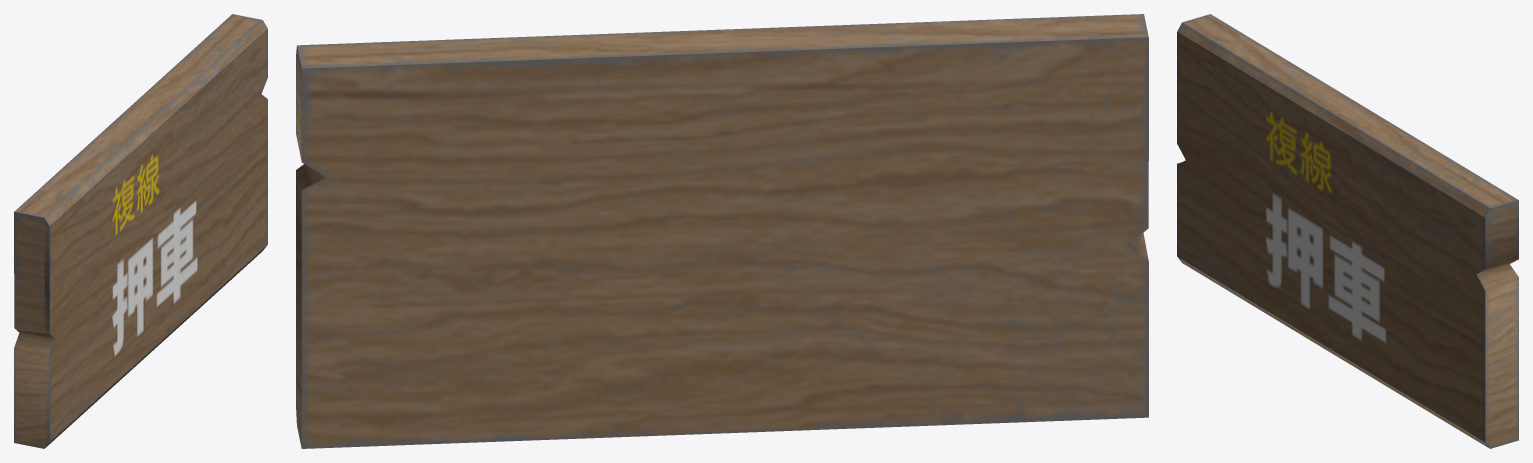
Rendered from POP.glb.
3 renders of one model, left to right at view 1: azimuth 30°, elevation 25°; view 2: azimuth 150°, elevation 25°; view 3: azimuth 270°, elevation 25°, orthographic. The views are drawn at different scales.
Parts seen in each view (by area): view 1: POP; view 2: POP; view 3: POP.
Boxes of the visible parts, <box> form: POP: <box>14,14,267,448</box>; POP: <box>296,14,1148,448</box>; POP: <box>1177,14,1518,448</box>.
Bounding box in the file's own units: 0.5962 × 0.3411 × 0.4393.
Materials: 1 (1 with a texture image).
